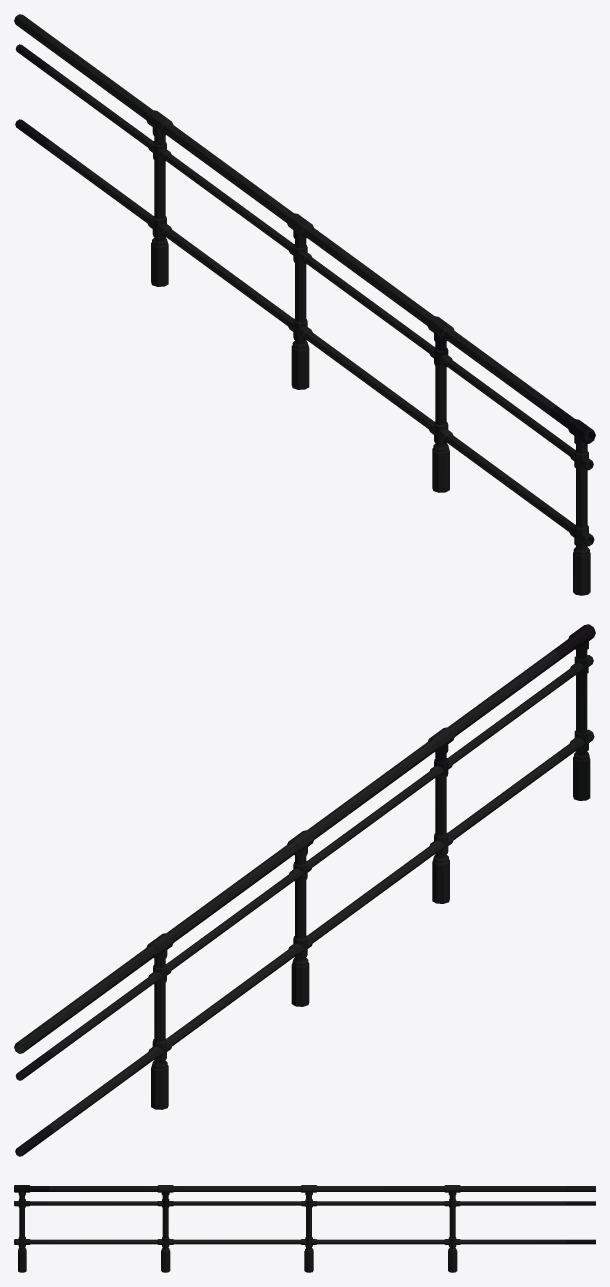
Rendered from Bridge_Fence00.fbx.
The picture shows the model from 3 angles, top to bottom: view 1: azimuth 30°, elevation 25°; view 2: azimuth 150°, elevation 25°; view 3: azimuth 270°, elevation 25°; orthographic projection. The views are drawn at different scales.
Parts seen in each view (by area): view 1: SM_City_Bridge_Fence_01.mo; view 2: SM_City_Bridge_Fence_01.mo; view 3: SM_City_Bridge_Fence_01.mo.
Part boxes in pixels (x1,y1,x2,y2): SM_City_Bridge_Fence_01.mo: (14, 14, 595, 595); SM_City_Bridge_Fence_01.mo: (14, 624, 595, 1156); SM_City_Bridge_Fence_01.mo: (14, 1185, 595, 1272).
Bounding box in the file's own units: 12.16 × 123 × 761.
